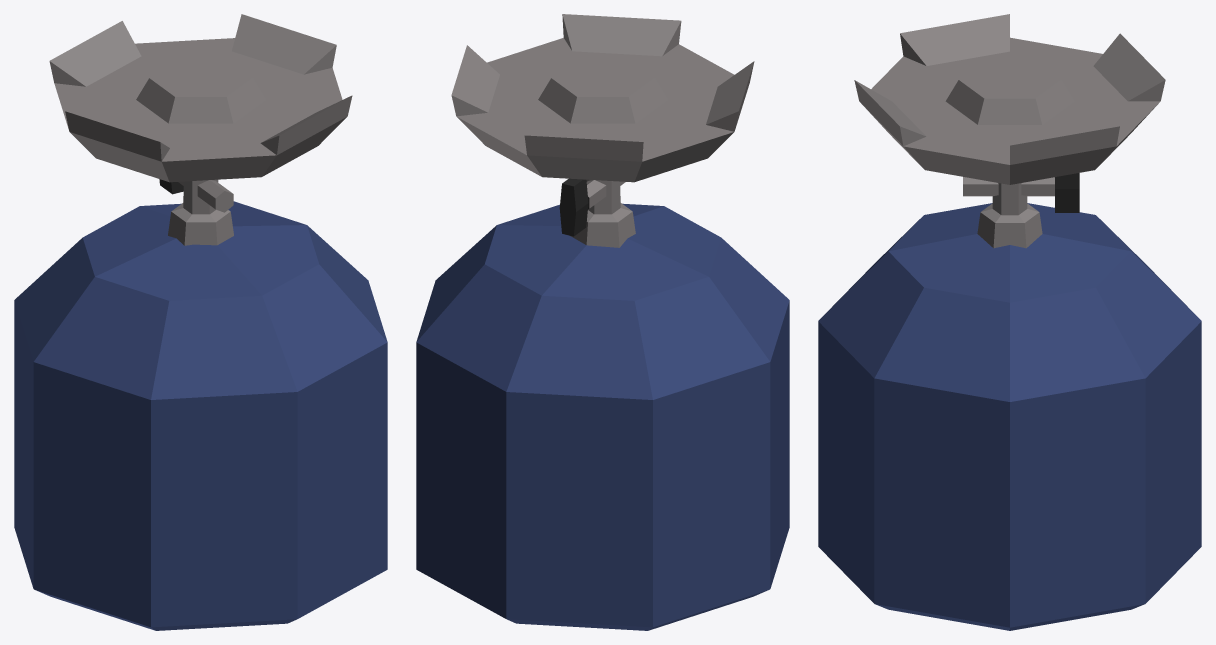
Rendered from survival_cooker.fbx.
3 views of the same model, side by side, from view 1: azimuth 30°, elevation 25°; view 2: azimuth 150°, elevation 25°; view 3: azimuth 270°, elevation 25° (orthographic).
Parts seen in each view (by area): view 1: survival_cooker; view 2: survival_cooker; view 3: survival_cooker.
Boxes of the visible parts, bbox=[...] form: survival_cooker: bbox=[14, 14, 387, 630]; survival_cooker: bbox=[416, 14, 789, 630]; survival_cooker: bbox=[818, 14, 1201, 630].
Bounding box in the file's own units: 145 × 200 × 145.
